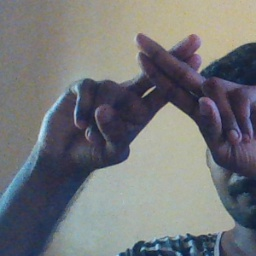F: (94, 25, 243, 149)
